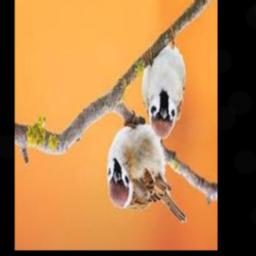Sparrow: (107, 110, 186, 222), (141, 24, 185, 139)
